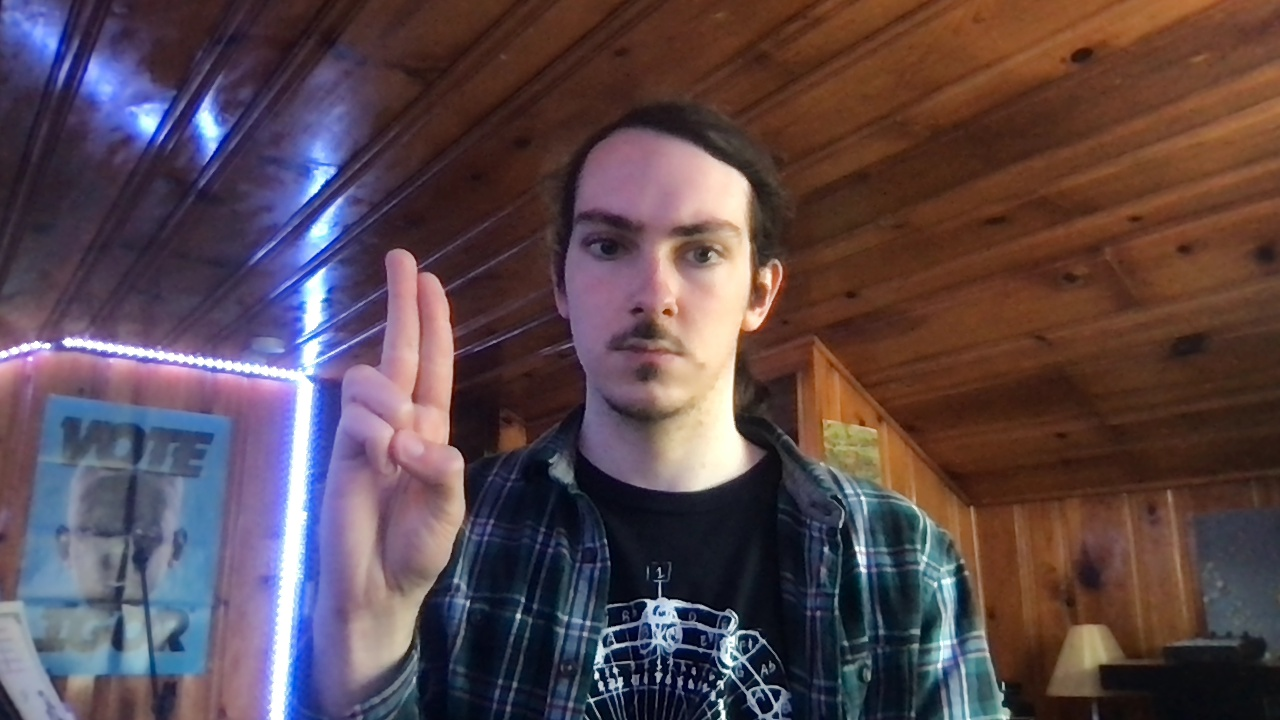u: (317, 246, 469, 609)
